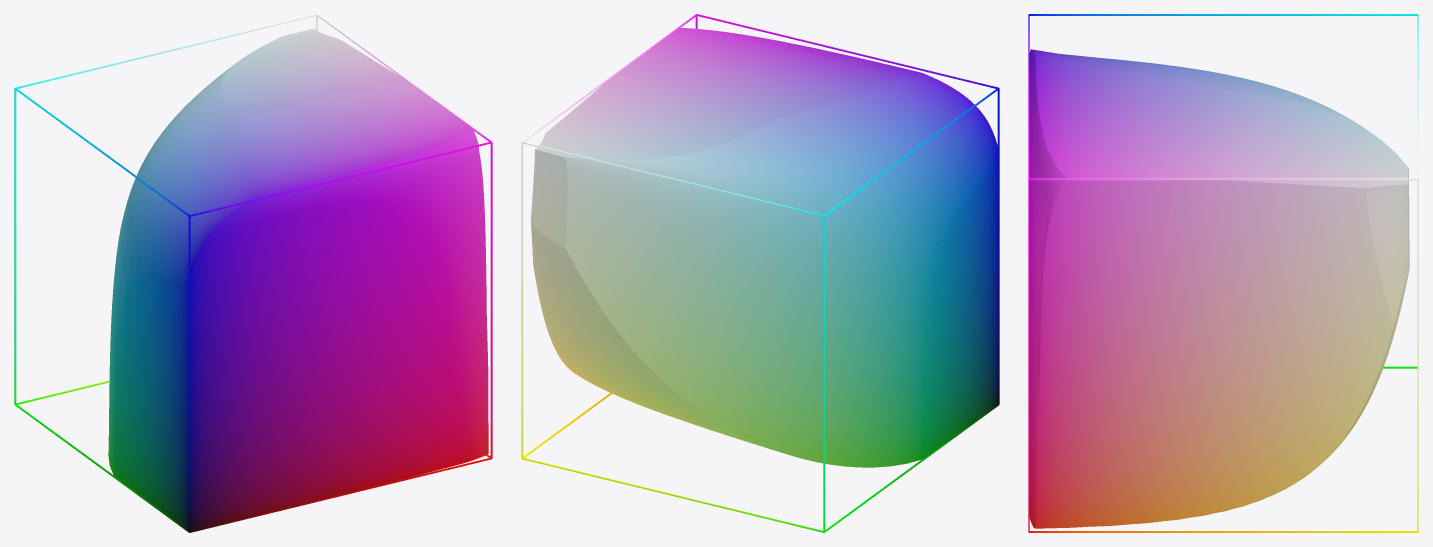
The model's file is ACESset.glb.
3 views of the same model, side by side, from view 1: azimuth 30°, elevation 25°; view 2: azimuth 150°, elevation 25°; view 3: azimuth 270°, elevation 25° (orthographic). The views are drawn at different scales.
Visible parts, largest first — view 1: wrapper; view 2: wrapper; view 3: wrapper.
Part boxes in pixels (<box>): wrapper: <box>14,14,492,532</box>; wrapper: <box>521,14,999,532</box>; wrapper: <box>1028,14,1418,532</box>.
Bounding box in the file's own units: 0.001 × 0.001 × 0.001.
